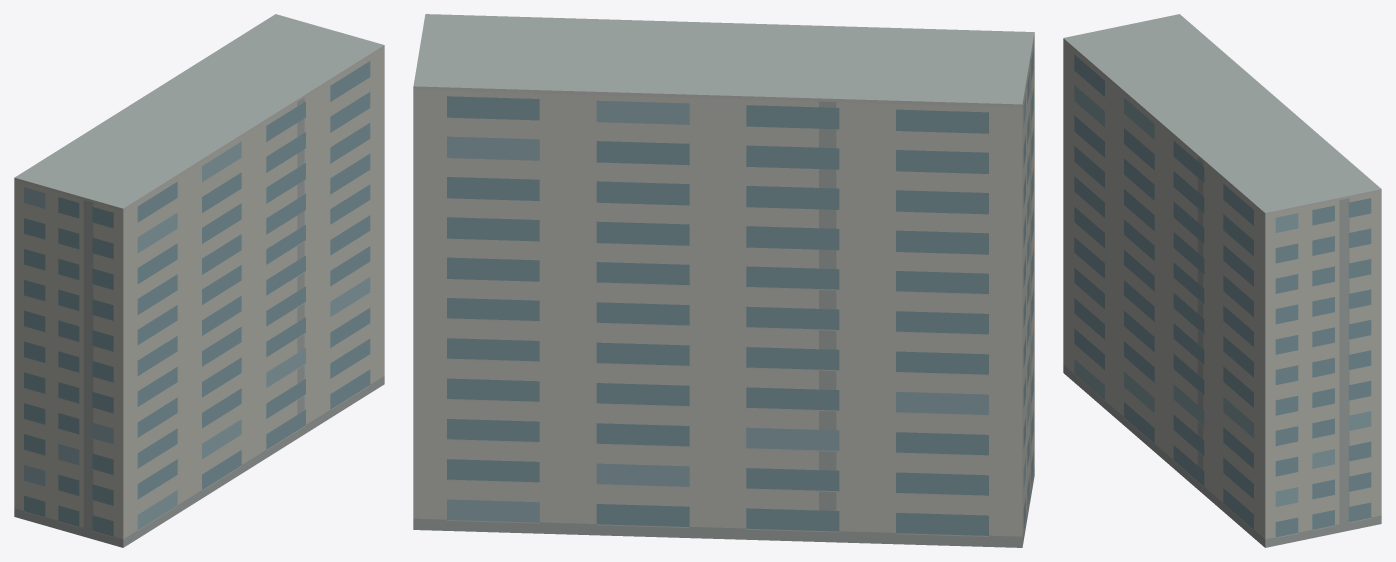
Rendered from residential-20b5f6cf-c52a-4374-8d25-576c67554a52.glb.
3 renders of one model, left to right at view 1: azimuth 30°, elevation 25°; view 2: azimuth 150°, elevation 25°; view 3: azimuth 270°, elevation 25°, orthographic. The views are drawn at different scales.
Parts seen in each view (by area): view 1: residential-20b5f6cf-c52a-4374-8d25-576c67554a52.tmp; view 2: residential-20b5f6cf-c52a-4374-8d25-576c67554a52.tmp; view 3: residential-20b5f6cf-c52a-4374-8d25-576c67554a52.tmp.
Part boxes in pixels (x1,y1,x2,y2): residential-20b5f6cf-c52a-4374-8d25-576c67554a52.tmp: (14,14,384,547); residential-20b5f6cf-c52a-4374-8d25-576c67554a52.tmp: (413,14,1034,547); residential-20b5f6cf-c52a-4374-8d25-576c67554a52.tmp: (1063,14,1381,547).
Bounding box in the file's own units: 43.37 × 34 × 29.32.
